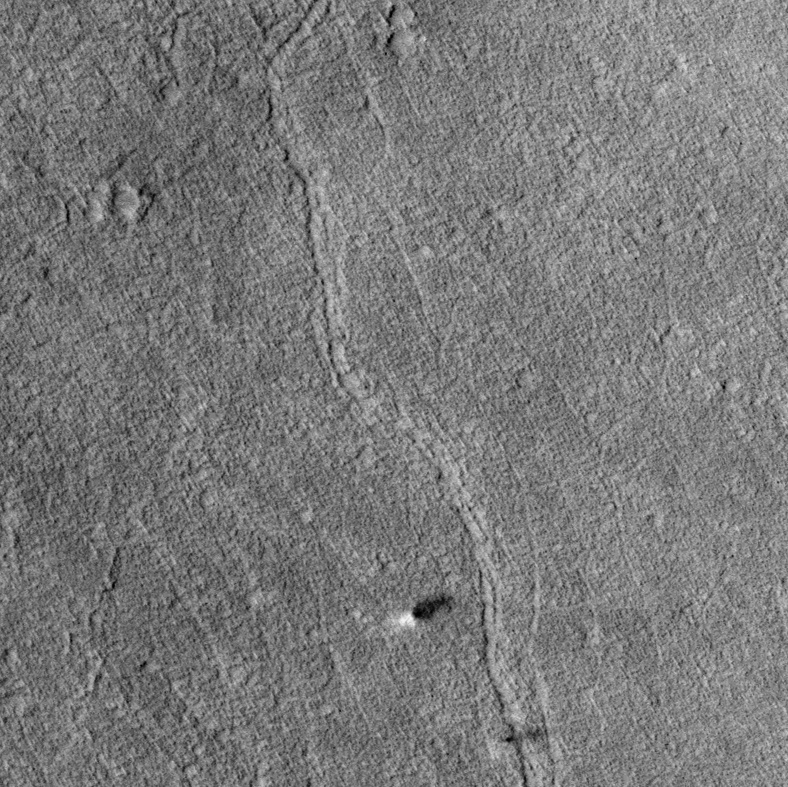dust_devil: (483, 724, 552, 761), (397, 593, 458, 629)
